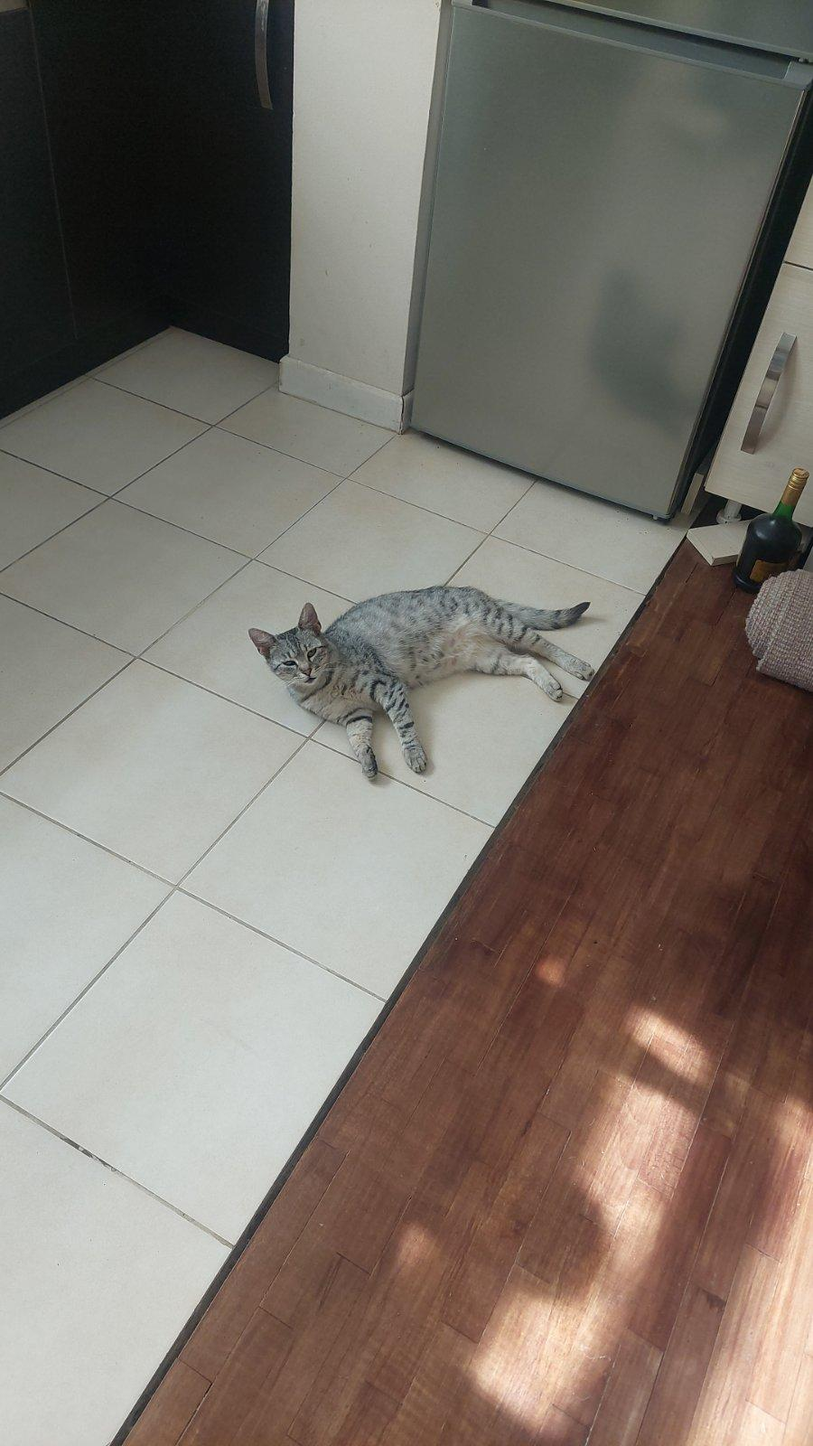macka: (248, 585, 596, 779)
